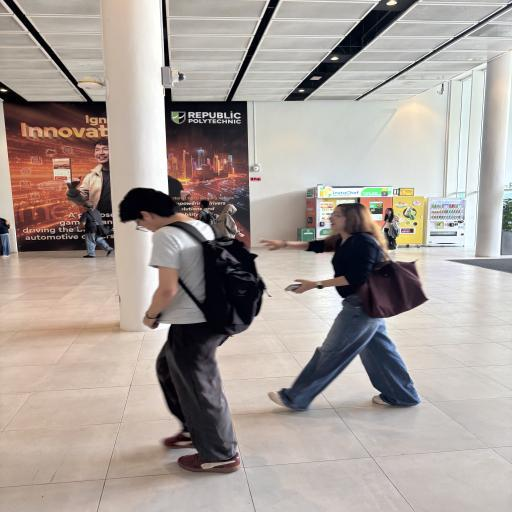person_left: (110, 192, 256, 474), (312, 196, 402, 408)
